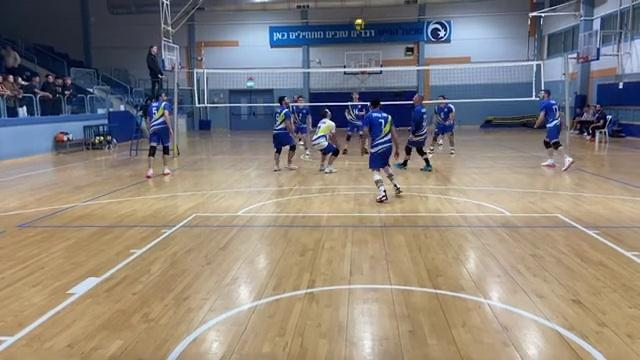ball: (353, 17, 366, 33)
